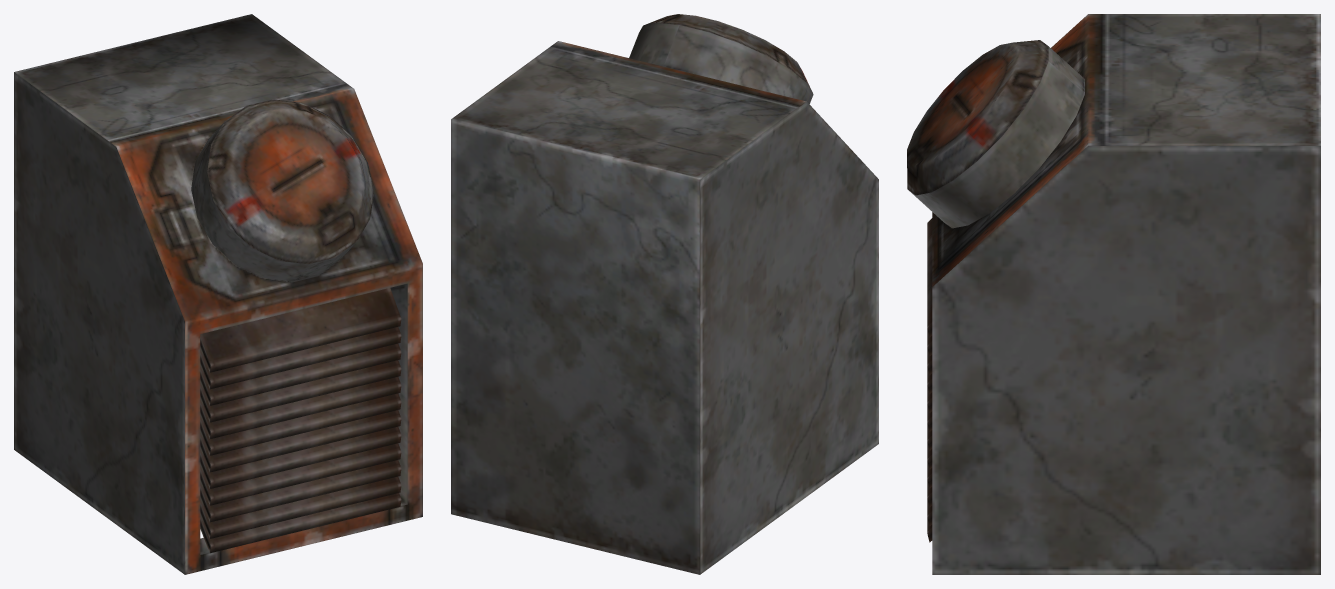
Rendered from vent_airlock_tau.dae.
3 renders of one model, left to right at view 1: azimuth 30°, elevation 25°; view 2: azimuth 150°, elevation 25°; view 3: azimuth 270°, elevation 25°, orthographic. The views are drawn at different scales.
Visible parts, largest first — view 1: Mesh; view 2: Mesh; view 3: Mesh.
Part boxes in pixels (x1=…): Mesh: x1=14, y1=14, x2=422, y2=574; Mesh: x1=451, y1=14, x2=878, y2=574; Mesh: x1=907, y1=14, x2=1320, y2=574.
Bounding box in the file's own units: 1.05 × 1.7 × 1.39.
